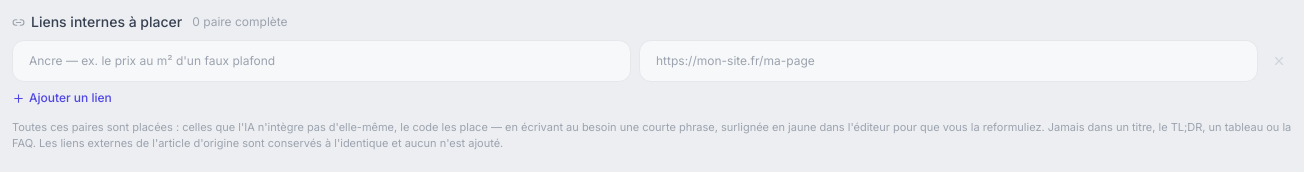
Test: InternalLinksField — saisie des paires › saisir une ancre puis une URL fait passer le compteur à 1
Step 1. Type "prime rénovation" into the field with placeholder "Ancre — ex. le prix au m² d'un faux plafond" → (322, 61), box [12,40,631,82]
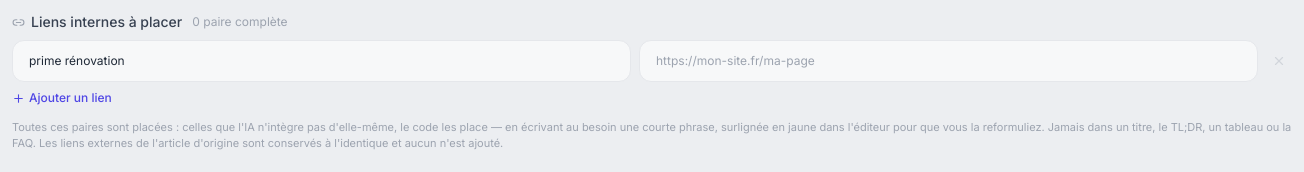
Step 2. Type "/prime-renovation" into the field with placeholder "https://mon-site.fr/ma-page" → (948, 61), box [639,40,1258,82]
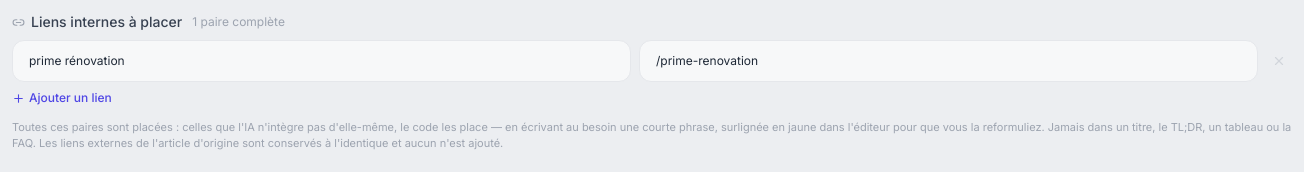
Result: the text "1 paire complète" is shown at [192,14,285,30]
